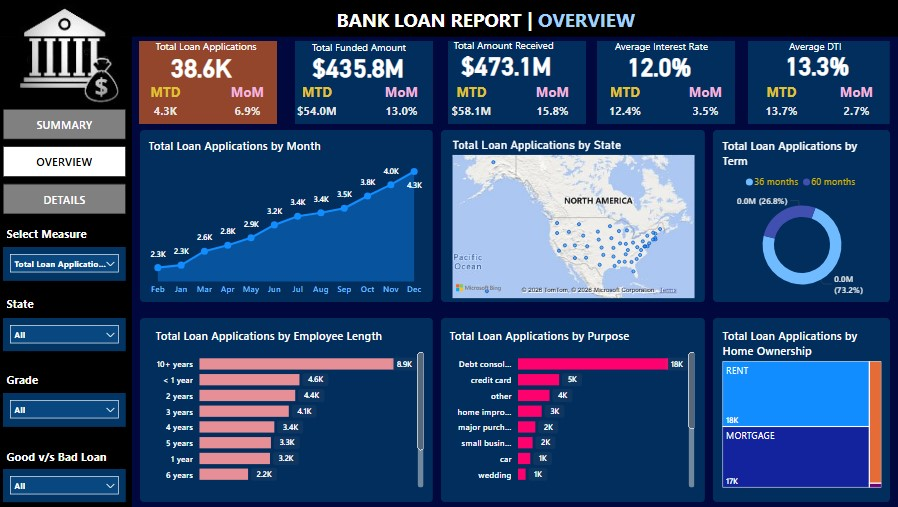

Layout of this report page (visuals, bound fields, positions):
{"tool":"powerbi","page":{"name":"OVERVIEW","canvas":[1280,720],"ordinal":1},"visuals":[{"type":"shape","box":[0,52.4,191.3,667.6],"z":0},{"type":"shape","box":[0,0,1279.8,52.4],"z":1000},{"type":"textbox","box":[476.2,4.3,459.2,48.2],"z":2000},{"type":"shape","box":[201.3,58.1,195.6,117.6],"z":3000},{"type":"card","fields":{"Values":["Bank_loan_data.Total Loan Applications"]},"box":[192,68,195.6,52.4],"z":4000},{"type":"textbox","box":[220.3,51,177.2,31.2],"z":5000},{"type":"card","title":"MTD","fields":{"Values":["Bank_loan_data.MTD Loan Applications"]},"box":[210.4,117.6,58.1,58.1],"z":6000},{"type":"card","title":"MoM","fields":{"Values":["Bank_loan_data.MoM Loan Applications"]},"box":[323.8,117.6,63.8,58.1],"z":7000},{"type":"shape","box":[422.4,58.1,195.6,117.6],"z":8000},{"type":"card","fields":{"Values":["Bank_loan_data.Total Funded Amount"]},"box":[413.9,68,195.6,52.4],"z":9000},{"type":"textbox","box":[429.4,52.4,180,29.8],"z":10000},{"type":"card","title":"MTD","fields":{"Values":["Bank_loan_data.MTD FundAmount"]},"box":[413.9,117.6,79.4,58.1],"z":11000},{"type":"card","title":"MoM","fields":{"Values":["Bank_loan_data.MoM Total Funded Amount"]},"box":[541.4,117.6,63.8,58.1],"z":12000},{"type":"shape","box":[639.2,58.1,195.6,117.6],"z":13000},{"type":"card","fields":{"Values":["Bank_loan_data.Total Amount Recieved"]},"box":[623.7,65.3,195.6,52.4],"z":14000},{"type":"textbox","box":[642.1,49.7,177.2,31.2],"z":15000},{"type":"card","title":"MTD","fields":{"Values":["Bank_loan_data.MTD Total Amount Recieved"]},"box":[639.2,117.6,66.6,58.1],"z":16000},{"type":"card","title":"MoM","fields":{"Values":["Bank_loan_data.MoM Total Amount Recieved"]},"box":[755.4,117.6,63.8,58.1],"z":17000},{"type":"shape","box":[1064.4,58.1,201.3,117.6],"z":18000},{"type":"card","fields":{"Values":["Bank_loan_data.Avg DTI"]},"box":[1064.4,65.2,195.6,52.4],"z":19000},{"type":"textbox","box":[1082.8,51,177.2,31.2],"z":20000},{"type":"card","title":"MTD","fields":{"Values":["Bank_loan_data.MTD Avg DTI"]},"box":[1082.8,117.6,58.1,58.1],"z":21000},{"type":"card","title":"MoM","fields":{"Values":["Bank_loan_data.MoM Avg DTI"]},"box":[1186.3,117.6,63.8,58.1],"z":22000},{"type":"shape","box":[850.4,58.1,195.6,117.6],"z":23000},{"type":"shape","box":[202.7,184.3,415.3,243.8],"z":24000},{"type":"card","fields":{"Values":["Bank_loan_data.Avg Interst Rate"]},"box":[840.6,66.7,195.6,52.4],"z":25000},{"type":"textbox","box":[859,51.1,177.2,31.2],"z":26000},{"type":"card","title":"MTD","fields":{"Values":["Bank_loan_data.MTD Avg Int Rate"]},"box":[850.4,117.6,79.4,58.1],"z":27000},{"type":"card","title":"MoM","fields":{"Values":["Bank_loan_data.MoM Avg Int Rate"]},"box":[972.3,117.6,63.8,58.1],"z":28000},{"type":"slicer","fields":{"Values":["Bank_loan_data.address_state"]},"box":[8.5,450.7,174.3,46.8],"z":29000},{"type":"textbox","box":[8.5,413.9,184.3,36.9],"z":30000},{"type":"slicer","fields":{"Values":["Bank_loan_data.grade"]},"box":[8.5,557,174.3,48.2],"z":31000},{"type":"textbox","box":[8.5,521.6,184.3,35.4],"z":32000},{"type":"textbox","box":[8.5,630.7,184.3,36.9],"z":33000},{"type":"slicer","fields":{"Values":["Bank_loan_data.Good v/s Bad Loan"]},"box":[8.5,664.7,174.3,46.8],"z":34000},{"type":"areaChart","fields":{"Y":["Bank_loan_data.Total Loan Applications"],"Category":["Date Table.Month"]},"box":[209.8,195.6,399.7,232.4],"z":35000},{"type":"slicer","fields":{"Values":["Select Measure.Select Measure"]},"box":[8.5,350.1,174.3,48.2],"z":36000},{"type":"textbox","box":[8.5,314.6,184.3,35.4],"z":37000},{"type":"shape","box":[629.3,184.3,374.2,243.8],"z":38000},{"type":"map","fields":{"Category":["Bank_loan_data.address_state"]},"box":[640.6,195.6,352.9,232.4],"z":39000},{"type":"shape","box":[1014.8,184.3,250.9,243.8],"z":40000},{"type":"shape","box":[629.3,450.7,374.2,260.8],"z":41000},{"type":"donutChart","fields":{"Y":["Bank_loan_data.Total Loan Applications"],"Category":["Bank_loan_data.term"]},"box":[1023.3,195.6,235.3,232.4],"z":42000},{"type":"shape","box":[202.7,450.7,415.3,260.8],"z":43000},{"type":"barChart","fields":{"Y":["Bank_loan_data.Total Loan Applications"],"Category":["Bank_loan_data.emp_length"]},"box":[219.7,464.9,389.8,231],"z":44000},{"type":"barChart","fields":{"Y":["Bank_loan_data.Total Loan Applications"],"Category":["Bank_loan_data.purpose"]},"box":[636.4,464.9,357.2,231],"z":45000},{"type":"shape","box":[1014.8,450.7,250.9,260.8],"z":46000},{"type":"treemap","fields":{"Values":["Bank_loan_data.Total Loan Applications"],"Group":["Bank_loan_data.home_ownership"]},"box":[1023.3,464.9,235.3,231],"z":47000},{"type":"pageNavigator","box":[8.5,154.5,174.3,151.7],"z":48001},{"type":"image","box":[19.8,0,161.6,154.5],"z":48002}]}

Visuals, with their boxes in screenshot pixels (x1, y1, x2, y2), scaled from the page's 1280x720 canvas onto the 898x507 screenshot:
shape: rect(0, 37, 134, 506)
shape: rect(0, 0, 897, 37)
textbox: rect(334, 3, 656, 37)
shape: rect(141, 41, 278, 124)
card - Bank_loan_data.Total Loan Applications: rect(135, 48, 272, 85)
textbox: rect(155, 36, 279, 58)
"MTD" card: rect(148, 83, 188, 124)
"MoM" card: rect(227, 83, 272, 124)
shape: rect(296, 41, 434, 124)
card - Bank_loan_data.Total Funded Amount: rect(290, 48, 428, 85)
textbox: rect(301, 37, 428, 58)
"MTD" card: rect(290, 83, 346, 124)
"MoM" card: rect(380, 83, 425, 124)
shape: rect(448, 41, 586, 124)
card - Bank_loan_data.Total Amount Recieved: rect(438, 46, 575, 83)
textbox: rect(450, 35, 575, 57)
"MTD" card: rect(448, 83, 495, 124)
"MoM" card: rect(530, 83, 575, 124)
shape: rect(747, 41, 888, 124)
card - Bank_loan_data.Avg DTI: rect(747, 46, 884, 83)
textbox: rect(760, 36, 884, 58)
"MTD" card: rect(760, 83, 800, 124)
"MoM" card: rect(832, 83, 877, 124)
shape: rect(597, 41, 734, 124)
shape: rect(142, 130, 434, 301)
card - Bank_loan_data.Avg Interst Rate: rect(590, 47, 727, 84)
textbox: rect(603, 36, 727, 58)
"MTD" card: rect(597, 83, 652, 124)
"MoM" card: rect(682, 83, 727, 124)
slicer - Bank_loan_data.address_state: rect(6, 317, 128, 350)
textbox: rect(6, 291, 135, 317)
slicer - Bank_loan_data.grade: rect(6, 392, 128, 426)
textbox: rect(6, 367, 135, 392)
textbox: rect(6, 444, 135, 470)
slicer - Bank_loan_data.Good v/s Bad Loan: rect(6, 468, 128, 501)
areaChart - Bank_loan_data.Total Loan Applications x Date Table.Month: rect(147, 138, 428, 301)
slicer - Select Measure.Select Measure: rect(6, 247, 128, 280)
textbox: rect(6, 222, 135, 246)
shape: rect(441, 130, 704, 301)
map - Bank_loan_data.address_state: rect(449, 138, 697, 301)
shape: rect(712, 130, 888, 301)
shape: rect(441, 317, 704, 501)
donutChart - Bank_loan_data.Total Loan Applications x Bank_loan_data.term: rect(718, 138, 883, 301)
shape: rect(142, 317, 434, 501)
barChart - Bank_loan_data.Total Loan Applications x Bank_loan_data.emp_length: rect(154, 327, 428, 490)
barChart - Bank_loan_data.Total Loan Applications x Bank_loan_data.purpose: rect(446, 327, 697, 490)
shape: rect(712, 317, 888, 501)
treemap - Bank_loan_data.Total Loan Applications x Bank_loan_data.home_ownership: rect(718, 327, 883, 490)
pageNavigator: rect(6, 109, 128, 216)
image: rect(14, 0, 127, 109)
